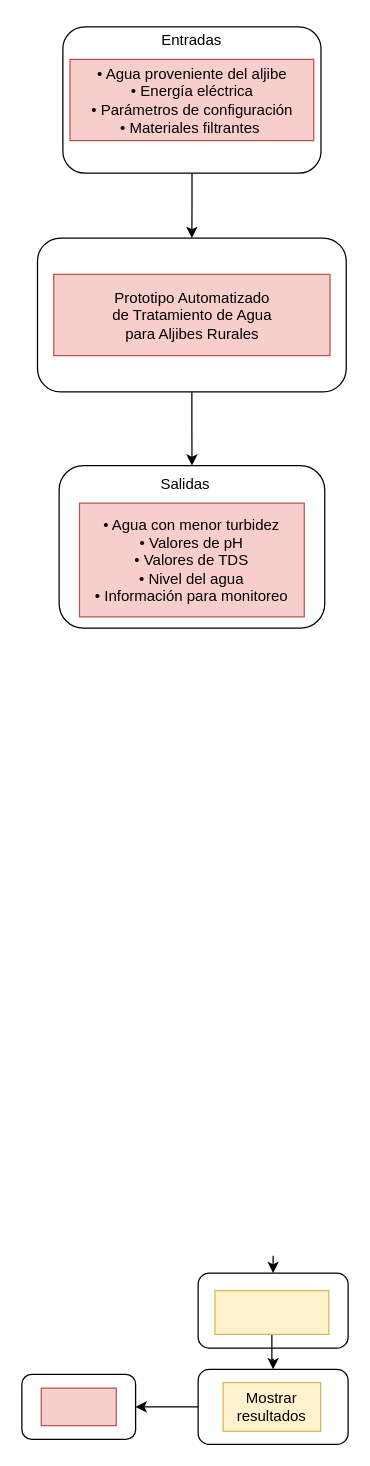
This 370x1466 diagram has some shape labels left out. Each missing label, with the centre of its shape:
Fin: pixel 78 1406
Procesar información: pixel 271 1311
